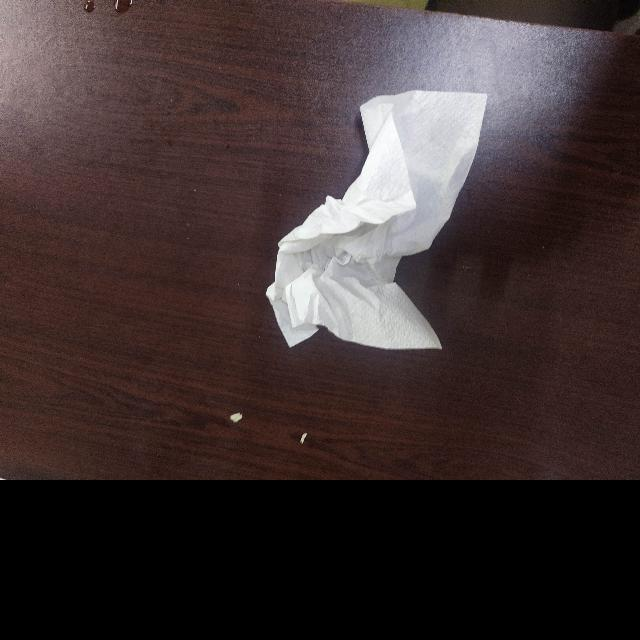kitchen paper: (256, 81, 502, 376)
